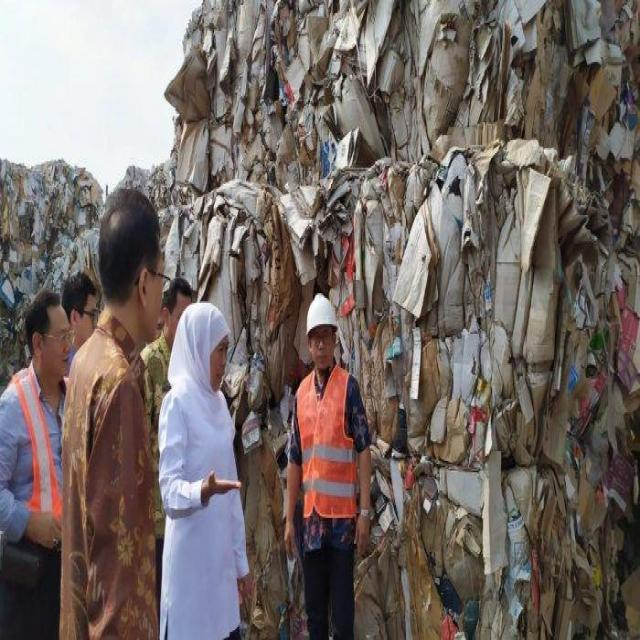Kertas: (200, 57, 628, 605)
